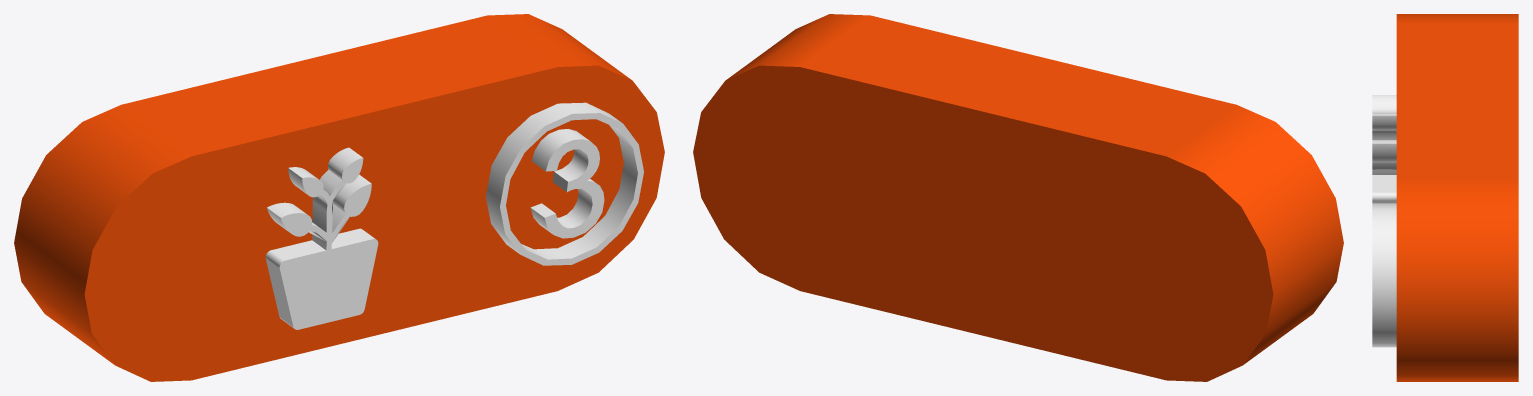
The model's file is Plant_3.fbx.
3 renders of one model, left to right at view 1: azimuth 30°, elevation 25°; view 2: azimuth 150°, elevation 25°; view 3: azimuth 270°, elevation 25°, orthographic. The views are drawn at different scales.
Visible parts, largest first — view 1: Orange, Object_1, Object_5, Object_4, Object_10, Object_12, Object_9, Object_13, Object_11, Object_6, Object_15; view 2: Orange; view 3: Orange, Object_1, Object_5, Object_10, Object_9, Object_11, Object_6, Object_8, Object_13.
Boxes of the visible parts, bbox=[...] form: Orange: bbox=[14, 14, 664, 381]; Object_1: bbox=[485, 102, 643, 265]; Object_5: bbox=[265, 228, 378, 329]; Object_4: bbox=[530, 129, 604, 238]; Object_10: bbox=[333, 174, 371, 216]; Object_12: bbox=[267, 202, 312, 236]; Object_9: bbox=[328, 147, 363, 183]; Object_13: bbox=[312, 170, 349, 252]; Object_11: bbox=[288, 167, 323, 197]; Object_6: bbox=[312, 183, 346, 248]; Object_15: bbox=[299, 204, 354, 243]; Orange: bbox=[693, 14, 1343, 381]; Orange: bbox=[1396, 14, 1518, 381]; Object_1: bbox=[1372, 203, 1396, 347]; Object_5: bbox=[1372, 175, 1396, 203]; Object_10: bbox=[1372, 140, 1396, 162]; Object_9: bbox=[1372, 113, 1396, 130]; Object_11: bbox=[1372, 95, 1396, 112]; Object_6: bbox=[1372, 130, 1396, 139]; Object_8: bbox=[1372, 162, 1396, 169]; Object_13: bbox=[1372, 169, 1396, 174].
Size of the model in its own units: 4.75 by 1.2 by 1.75.
